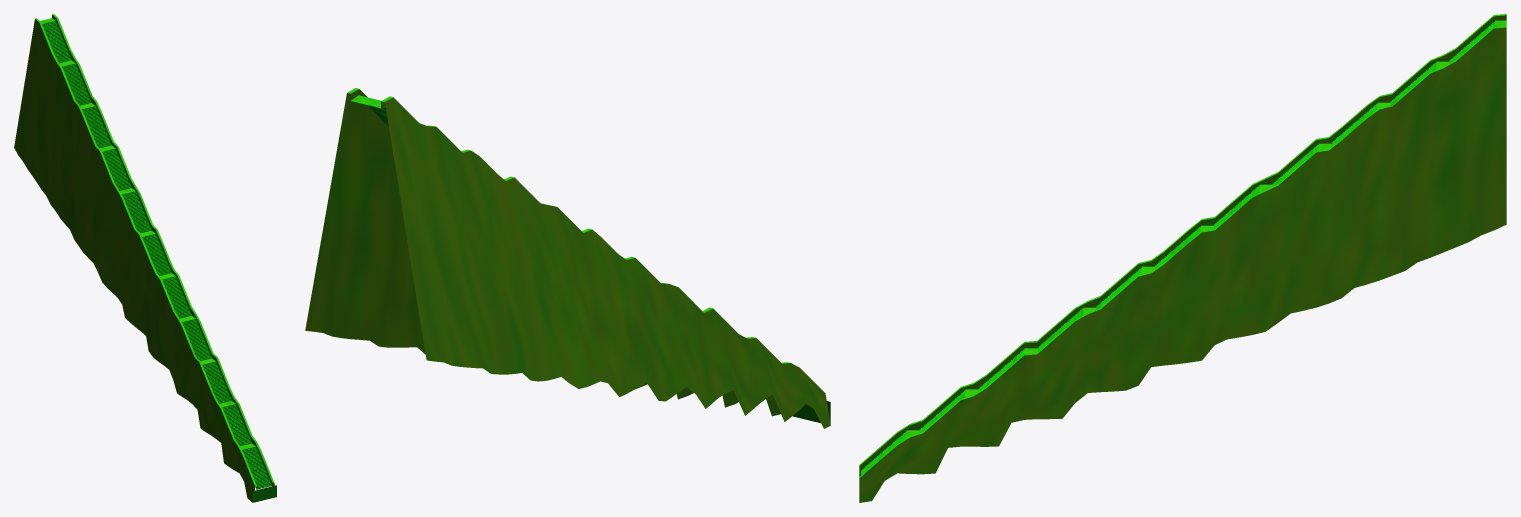
File: pilgrim_causeway.glb
3 renders of one model, left to right at view 1: azimuth 30°, elevation 25°; view 2: azimuth 150°, elevation 25°; view 3: azimuth 270°, elevation 25°, orthographic. The views are drawn at different scales.
Visible parts, largest first — view 1: pilgrim_causeway; view 2: pilgrim_causeway; view 3: pilgrim_causeway.
Boxes of the visible parts, bbox=[...] form: pilgrim_causeway: bbox=[14, 14, 276, 502]; pilgrim_causeway: bbox=[305, 88, 830, 428]; pilgrim_causeway: bbox=[859, 14, 1506, 502].
Size of what is drawn, in the model's own units: 16.3 by 81.34 by 101.
